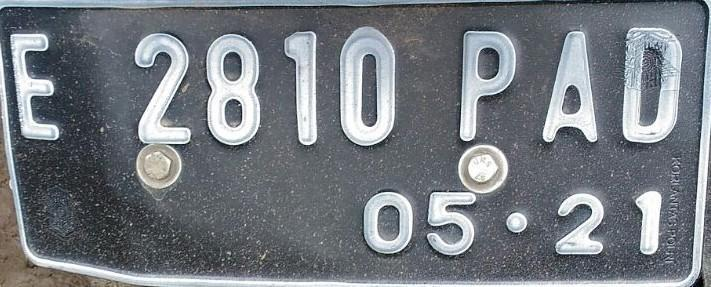0: (320, 24, 416, 148)
1: (272, 26, 336, 148)
2: (110, 28, 198, 150)
8: (194, 29, 272, 150)
A: (526, 24, 612, 143)
D: (603, 23, 698, 147)
E: (6, 28, 74, 142)
P: (428, 21, 532, 147)
